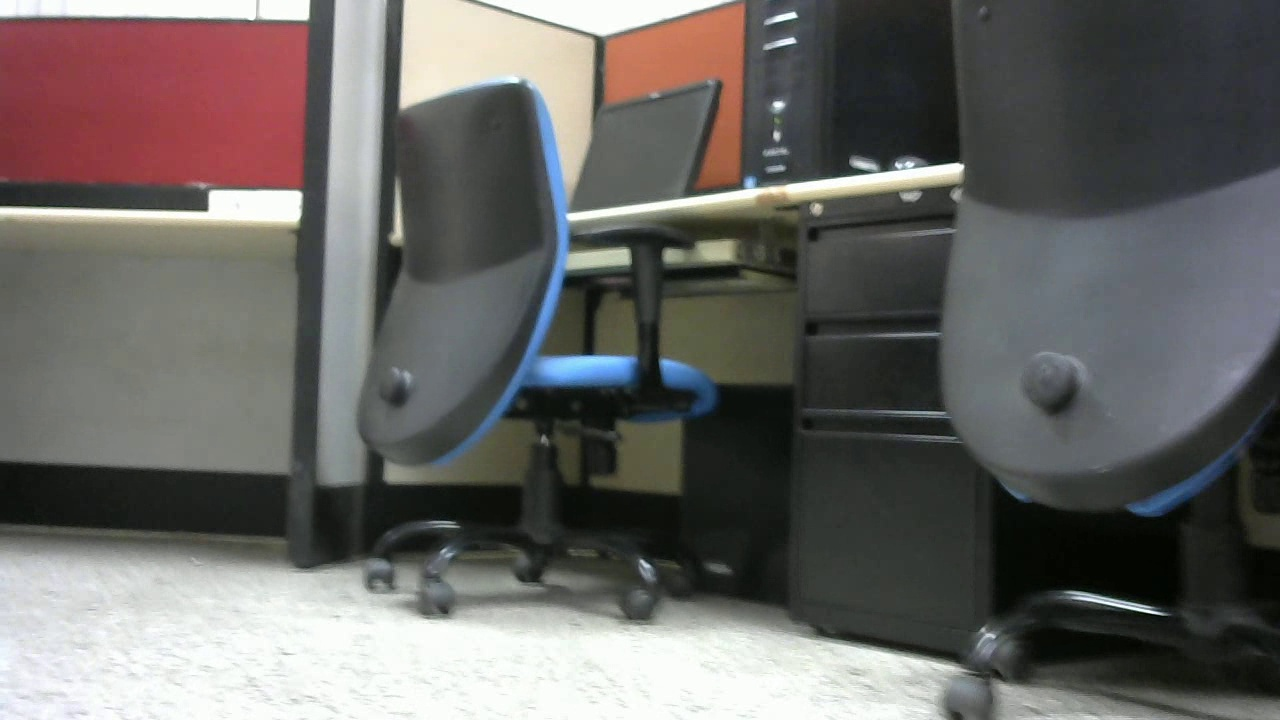chair: (349, 75, 723, 619)
